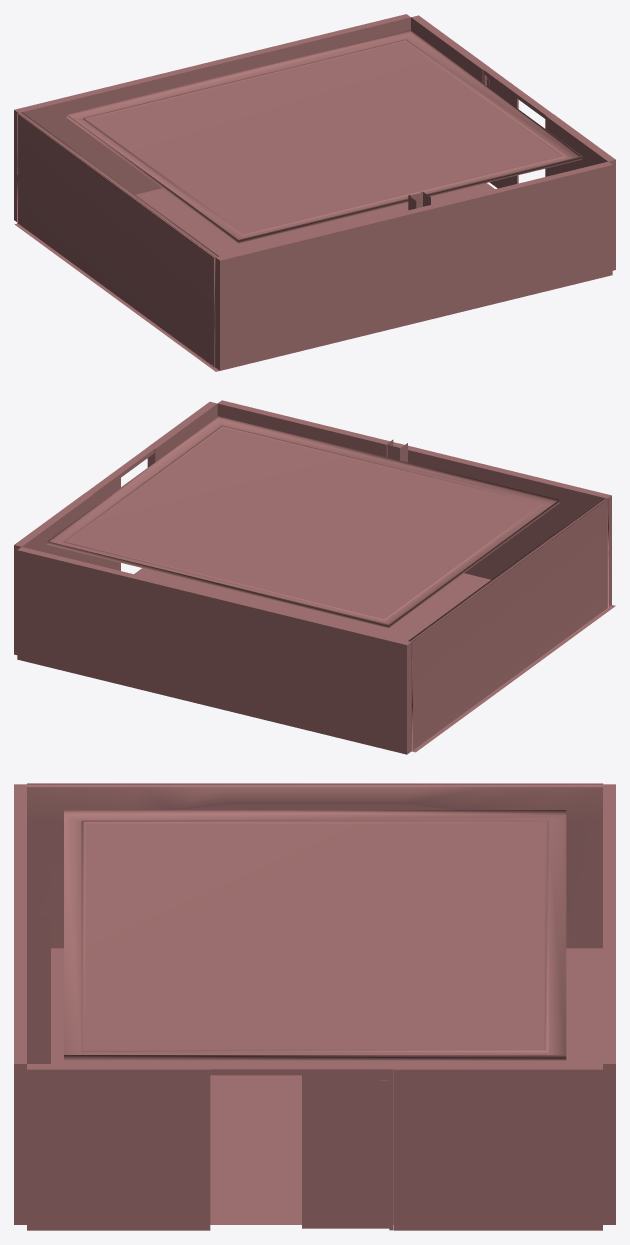
The model's file is CONSULTORIO.fbx.
3 views of the same model, one above another, from view 1: azimuth 30°, elevation 25°; view 2: azimuth 150°, elevation 25°; view 3: azimuth 270°, elevation 25° (orthographic). The views are drawn at different scales.
Visible parts, largest first — view 1: CONSULTORIO; view 2: CONSULTORIO; view 3: CONSULTORIO.
Part boxes in pixels (left/top/right/bottom): CONSULTORIO: left=14, top=14, right=615, bottom=371; CONSULTORIO: left=14, top=400, right=615, bottom=754; CONSULTORIO: left=14, top=783, right=615, bottom=1230.
Bounding box in the file's own units: 26.06 × 7.28 × 23.
